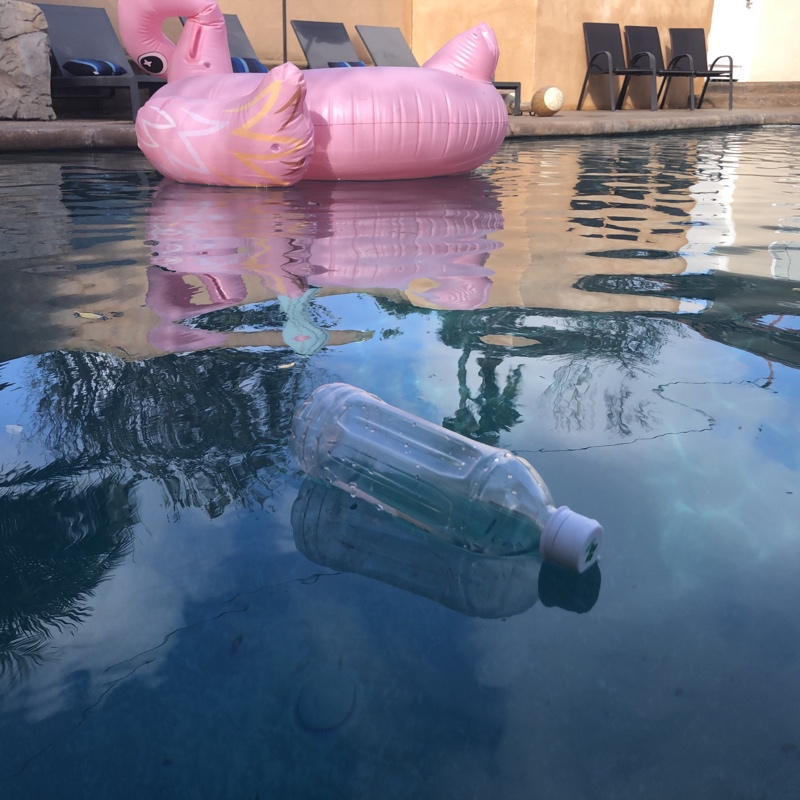Plastic Bottle: (290, 380, 610, 581)
